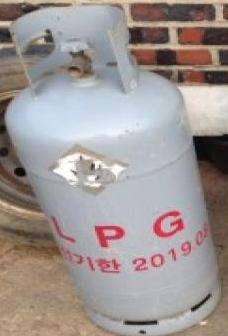cylinder: (1, 1, 228, 336)
